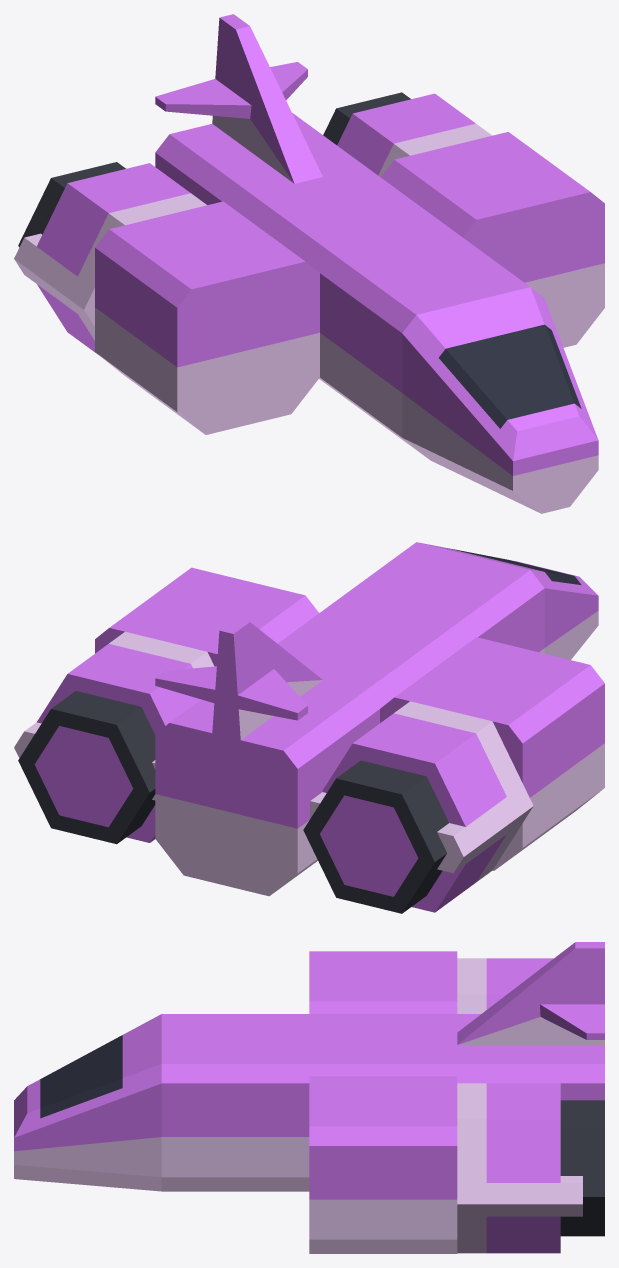
File: Ship3.fbx
3 renders of one model, top to bottom at view 1: azimuth 30°, elevation 25°; view 2: azimuth 150°, elevation 25°; view 3: azimuth 270°, elevation 25°, orthographic. The views are drawn at different scales.
Visible parts, largest first — view 1: hull_body (×5), hull_cockpitPoint, engine_turbineLarge% (×2), rudder_sides; view 2: hull_body (×5), engine_turbineLarge% (×2), rudder_sides, hull_cockpitPoint; view 3: hull_body (×5), engine_turbineLarge% (×2), hull_cockpitPoint, rudder_sides.
Boxes of the visible parts, x1,y1,x2,y2 form: hull_body (×5): [95, 113, 604, 458]; hull_cockpitPoint: [402, 287, 598, 513]; engine_turbineLarge% (×2): [14, 92, 491, 354]; rudder_sides: [155, 14, 322, 183]; hull_body (×5): [95, 542, 604, 896]; engine_turbineLarge% (×2): [14, 631, 533, 913]; rudder_sides: [155, 618, 322, 740]; hull_cockpitPoint: [419, 542, 598, 659]; hull_body (×5): [161, 951, 604, 1253]; engine_turbineLarge% (×2): [457, 958, 604, 1253]; hull_cockpitPoint: [14, 1014, 161, 1191]; rudder_sides: [457, 942, 604, 1044].
Bounding box in the file's own units: 31.55 × 17 × 40.
